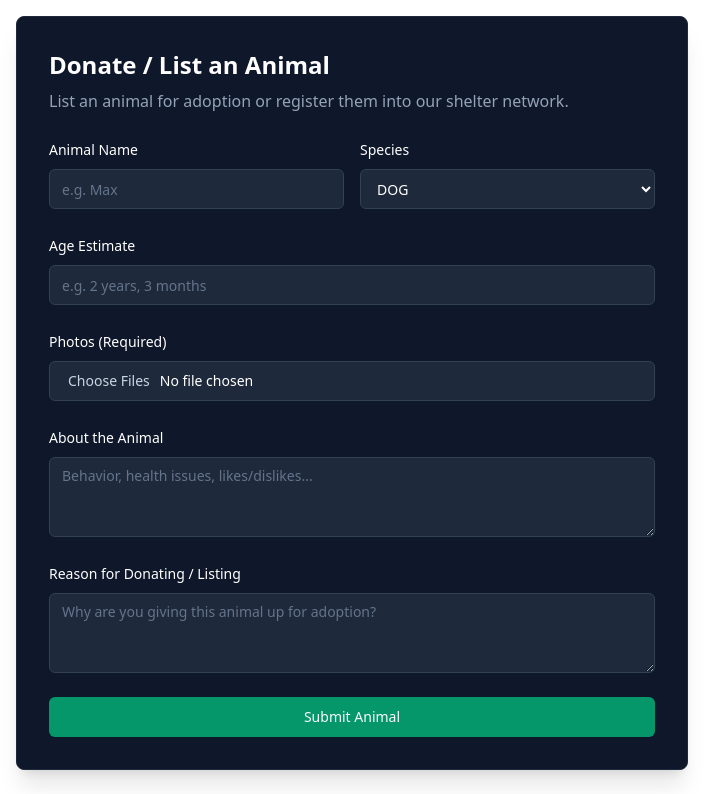
Test: Component Library Tests & Edge Cases › Form Validation Errors › DonateAnimalForm blocks submit and displays validation errors for missing fields
What coordinates should you click on to do the following:
click the button "Submit Animal"
I would click on:
 (352, 717)
Its box is [49,697,655,737].
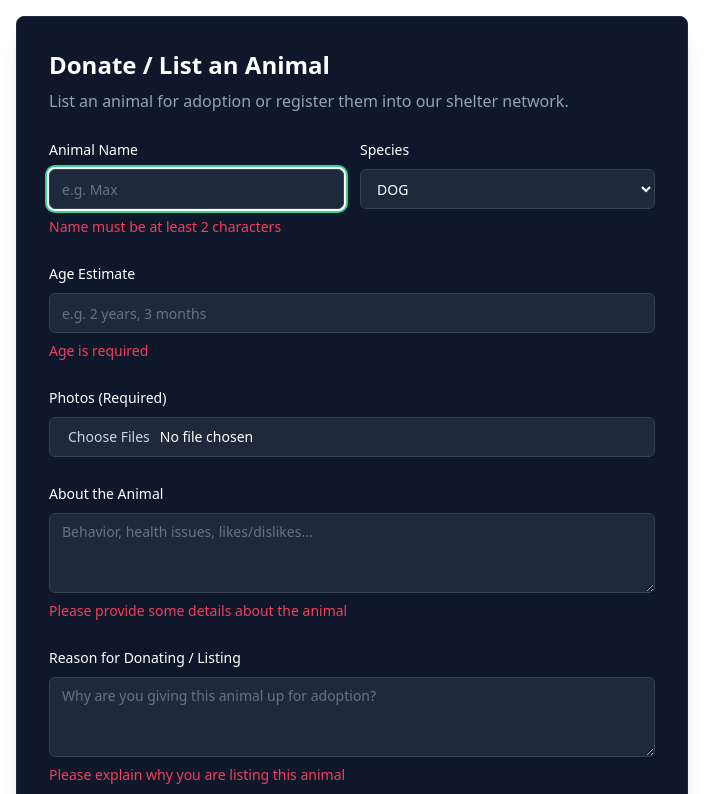
Expected: the text "Name must be at least 2 characters" is shown, [49,217,281,236]
Expected: the text "Please provide some details about the animal" is shown, [49,601,347,620]
Expected: the text "Please explain why you are listing this animal" is shown, [49,765,345,784]
